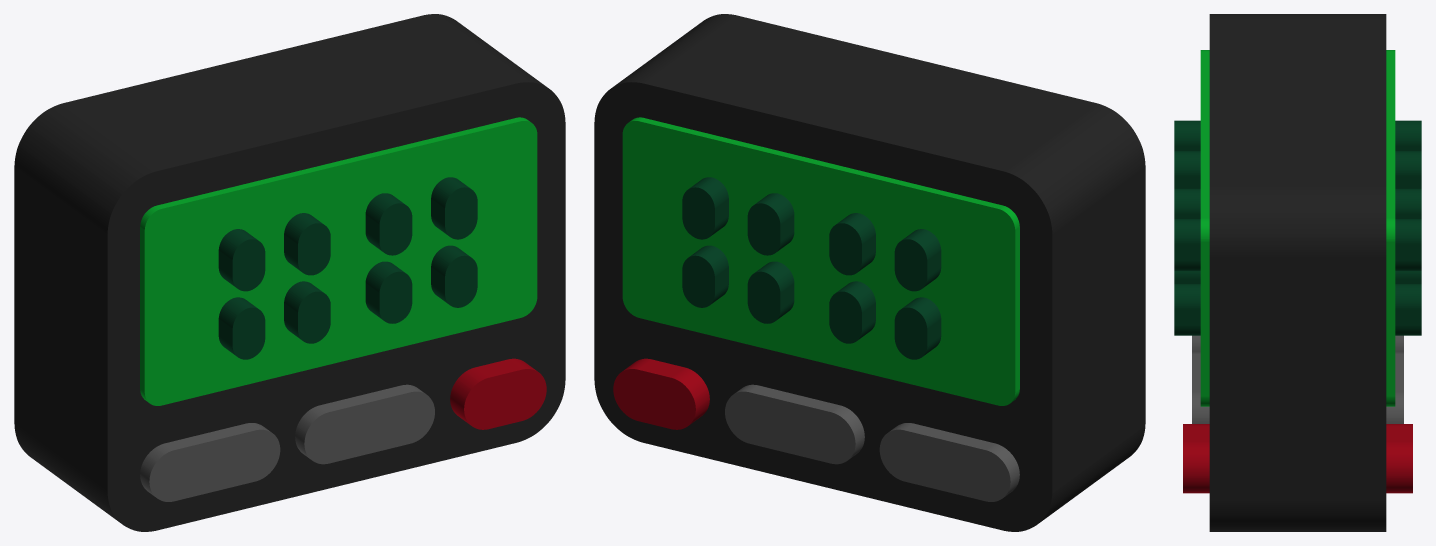
3 renders of one model, left to right at view 1: azimuth 30°, elevation 25°; view 2: azimuth 150°, elevation 25°; view 3: azimuth 270°, elevation 25°, orthographic. The views are drawn at different scales.
Visible parts, largest first — view 1: U+1F4DF_layer00_obj00, U+1F4DF_layer01_obj00, U+1F4DF_layer04_obj00, U+1F4DF_layer02_obj00, U+1F4DF_layer03_obj00; view 2: U+1F4DF_layer00_obj00, U+1F4DF_layer01_obj00, U+1F4DF_layer04_obj00, U+1F4DF_layer02_obj00, U+1F4DF_layer03_obj00; view 3: U+1F4DF_layer00_obj00, U+1F4DF_layer04_obj00, U+1F4DF_layer01_obj00, U+1F4DF_layer03_obj00, U+1F4DF_layer02_obj00.
Part boxes in pixels (x1,y1,x2,y2): U+1F4DF_layer00_obj00: (14, 14, 565, 531); U+1F4DF_layer01_obj00: (140, 117, 537, 405); U+1F4DF_layer04_obj00: (218, 177, 477, 359); U+1F4DF_layer02_obj00: (140, 384, 434, 501); U+1F4DF_layer03_obj00: (450, 358, 546, 429); U+1F4DF_layer00_obj00: (594, 14, 1145, 531); U+1F4DF_layer01_obj00: (622, 117, 1019, 405); U+1F4DF_layer04_obj00: (682, 177, 941, 359); U+1F4DF_layer02_obj00: (725, 384, 1019, 501); U+1F4DF_layer03_obj00: (613, 358, 709, 429); U+1F4DF_layer00_obj00: (1209, 14, 1386, 531); U+1F4DF_layer04_obj00: (1174, 120, 1421, 335); U+1F4DF_layer01_obj00: (1200, 50, 1395, 406); U+1F4DF_layer03_obj00: (1183, 424, 1412, 493); U+1F4DF_layer02_obj00: (1192, 335, 1403, 423).
Bounding box in the file's own units: 0.5678 × 0.4258 × 0.28.
